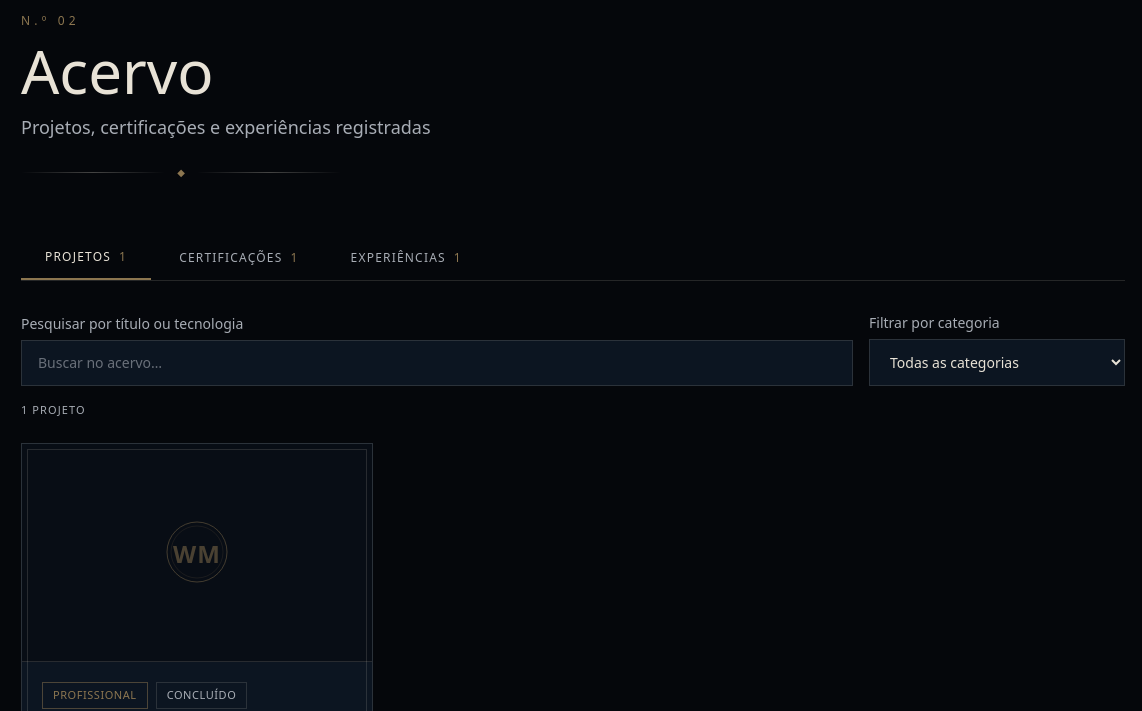
ArchiveSection tabs › filters projects by search query
Type "inexistente" into the search field at (437, 363), box [21,340,853,386]
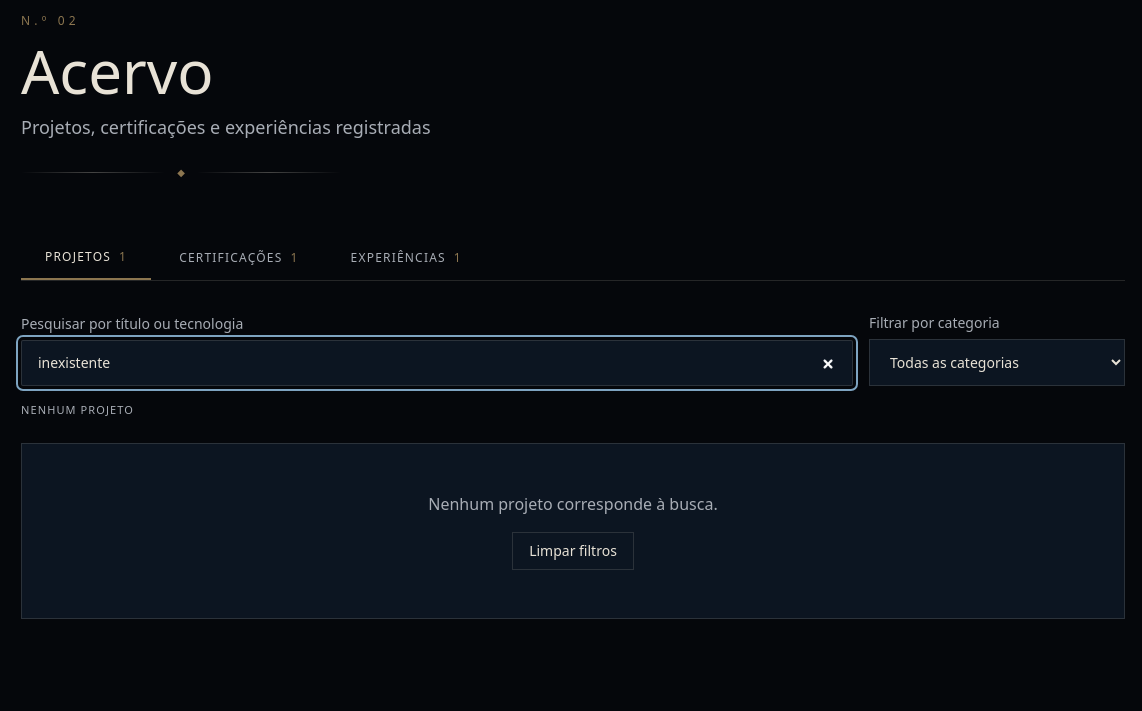
Check: the text "Nenhum projeto corresponde à busca." is shown, box [428,492,718,514]
